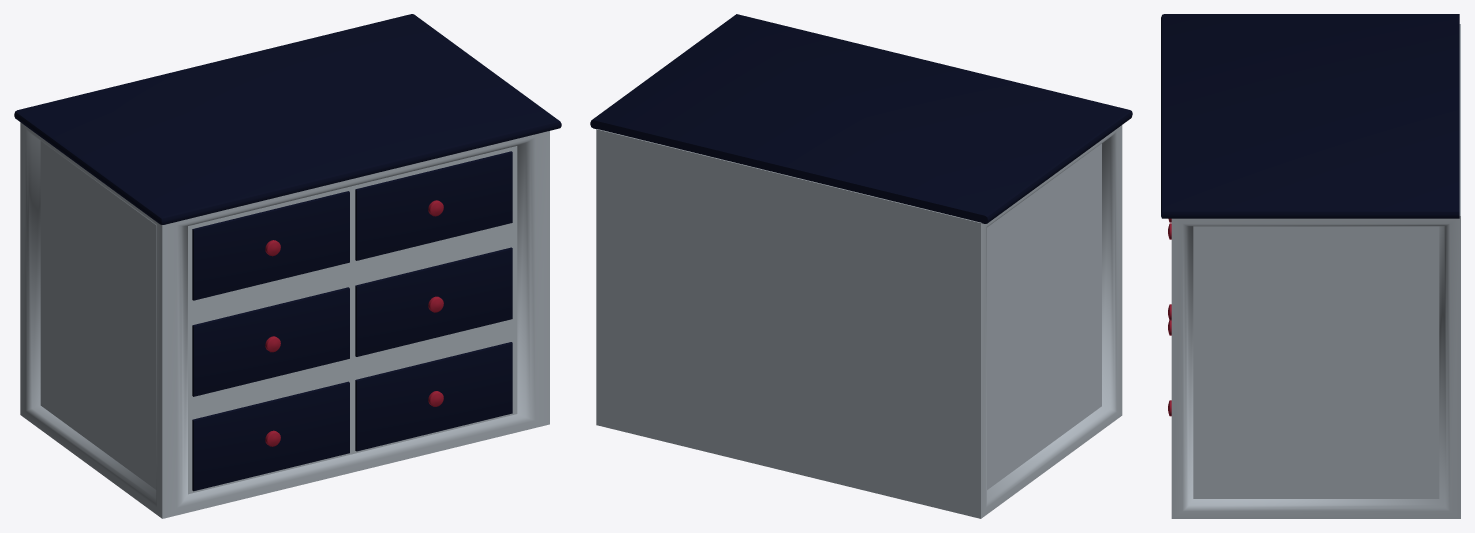
The model's file is Cómoda.fbx.
The picture shows the model from 3 angles, left to right: view 1: azimuth 30°, elevation 25°; view 2: azimuth 150°, elevation 25°; view 3: azimuth 270°, elevation 25°; orthographic projection. The views are drawn at different scales.
Visible parts, largest first — view 1: Cómoda; view 2: Cómoda; view 3: Cómoda.
Boxes of the visible parts, bbox=[...] form: Cómoda: bbox=[14, 14, 561, 518]; Cómoda: bbox=[590, 14, 1132, 518]; Cómoda: bbox=[1161, 14, 1460, 518].
Size of the model in its own units: 64.99 by 47.45 by 41.48.
